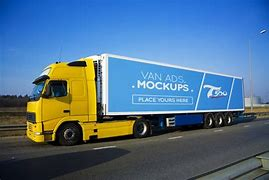bigtruck: (24, 51, 244, 142)
